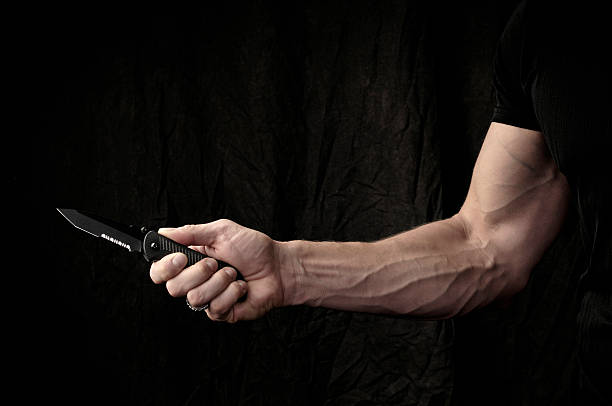knife: (53, 206, 248, 305)
